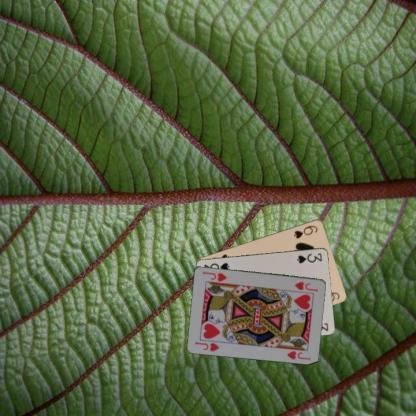3s: (294, 250, 324, 264)
6s: (291, 222, 318, 240)
Jh: (192, 339, 221, 353), (292, 278, 319, 292)
